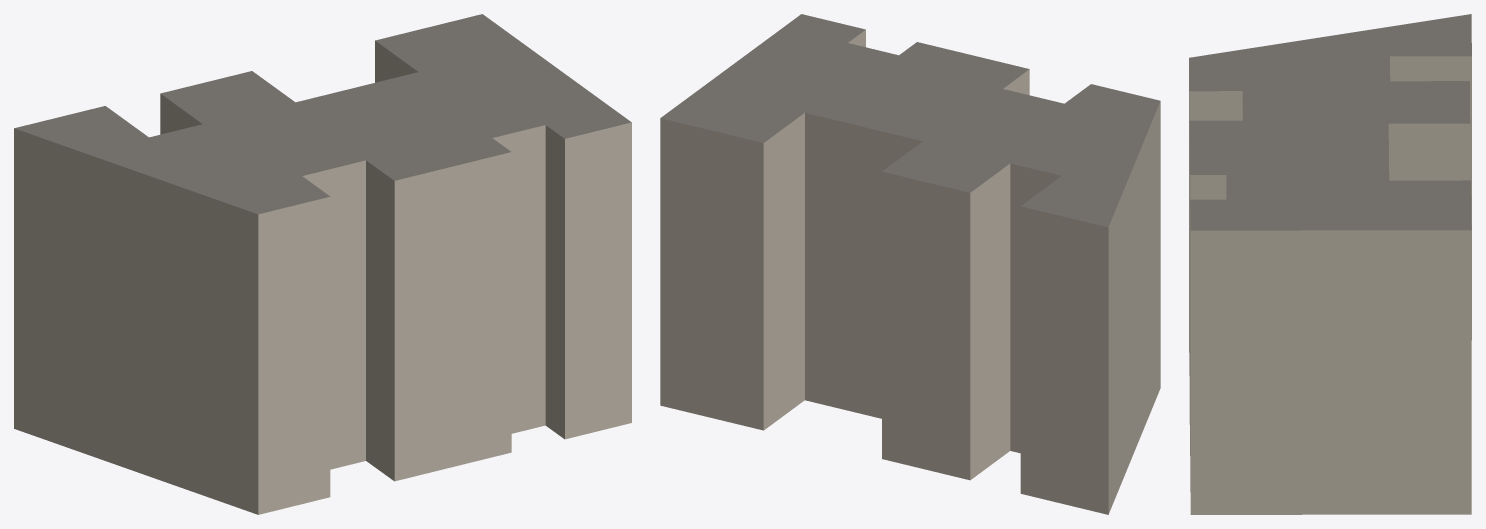
The picture shows the model from 3 angles, left to right: view 1: azimuth 30°, elevation 25°; view 2: azimuth 150°, elevation 25°; view 3: azimuth 270°, elevation 25°; orthographic projection. The views are drawn at different scales.
Visible parts, largest first — view 1: HP-w446934759; view 2: HP-w446934759; view 3: HP-w446934759.
Boxes of the visible parts, x1=… form: HP-w446934759: x1=14, y1=14, x2=631, y2=514; HP-w446934759: x1=660, y1=14, x2=1160, y2=514; HP-w446934759: x1=1189, y1=14, x2=1471, y2=514.
Bounding box in the file's own units: 29.41 × 18 × 16.23.
